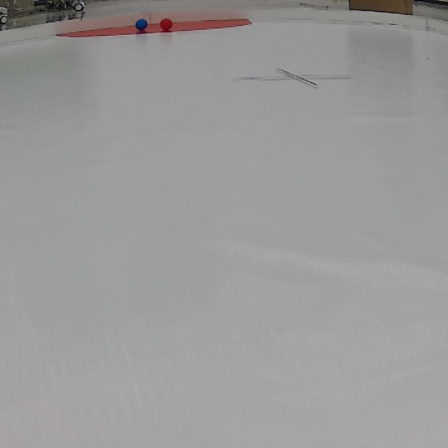blue: (135, 19, 150, 30)
red: (159, 19, 173, 30)
red_base: (55, 14, 257, 35)
